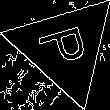P_E: (34, 23, 95, 73)
